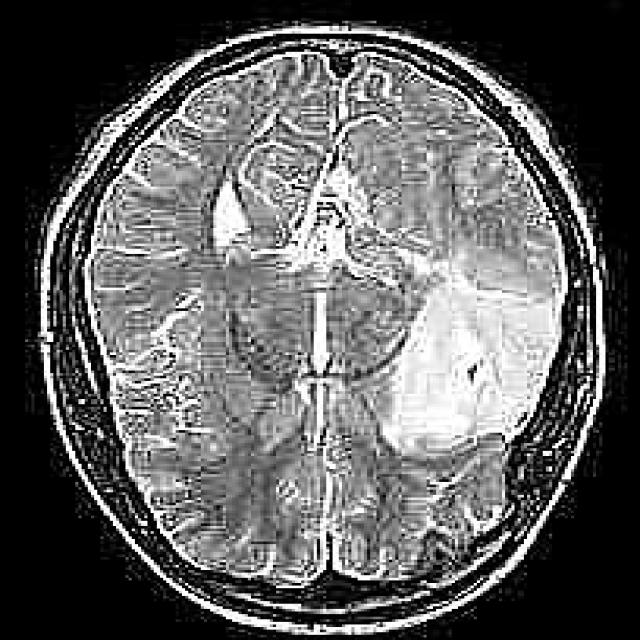Tumor-Cell: (353, 266, 560, 452)
